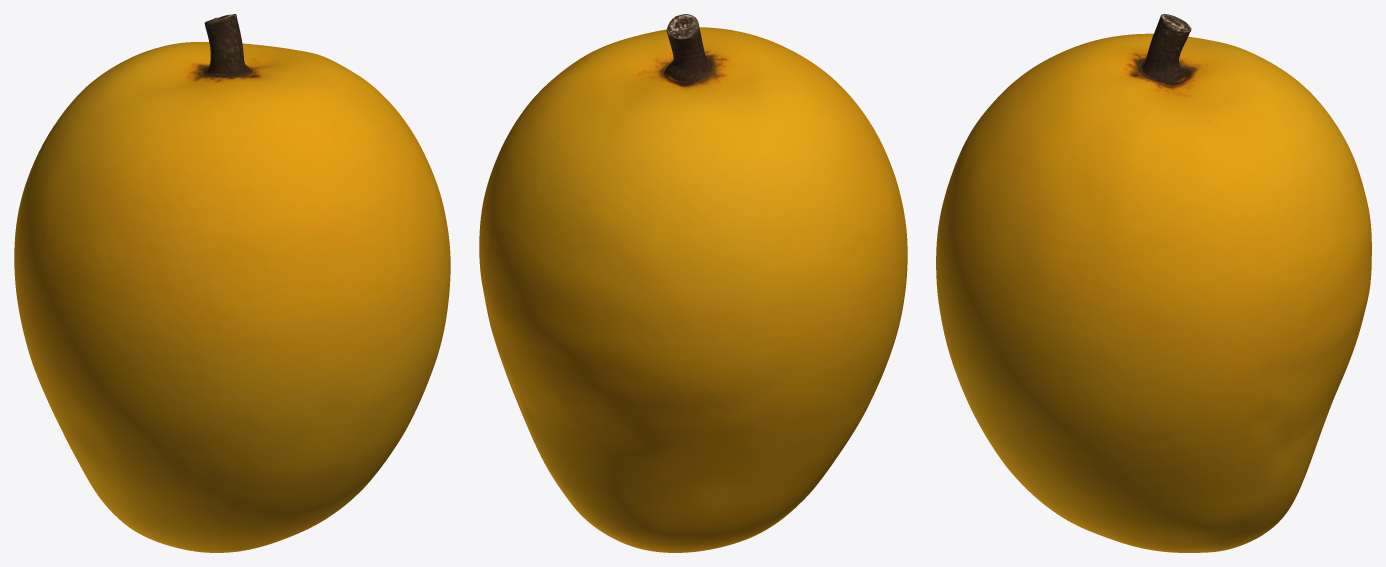
Rendered from lakshmanBhog.glb.
The picture shows the model from 3 angles, left to right: view 1: azimuth 30°, elevation 25°; view 2: azimuth 150°, elevation 25°; view 3: azimuth 270°, elevation 25°; orthographic projection.
Visible parts, largest first — view 1: tripo_node_2267b1f1-cc49-4b3c-be01-98a3332e58a0; view 2: tripo_node_2267b1f1-cc49-4b3c-be01-98a3332e58a0; view 3: tripo_node_2267b1f1-cc49-4b3c-be01-98a3332e58a0.
Boxes of the visible parts, x1,y1,x2,y2 form: tripo_node_2267b1f1-cc49-4b3c-be01-98a3332e58a0: (14,14,450,552); tripo_node_2267b1f1-cc49-4b3c-be01-98a3332e58a0: (479,14,907,552); tripo_node_2267b1f1-cc49-4b3c-be01-98a3332e58a0: (936,14,1371,552).
Bounding box in the file's own units: 0.7582 × 1 × 0.7593.
1 material, 1 textured.
